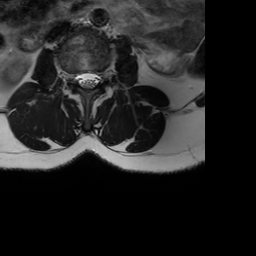CCS_normal: (84, 65, 92, 97)
LFS_normal: (100, 61, 109, 88)
LLS_normal: (92, 63, 100, 93)
RFS_normal: (66, 63, 75, 88)
RLS_normal: (75, 63, 84, 93)
